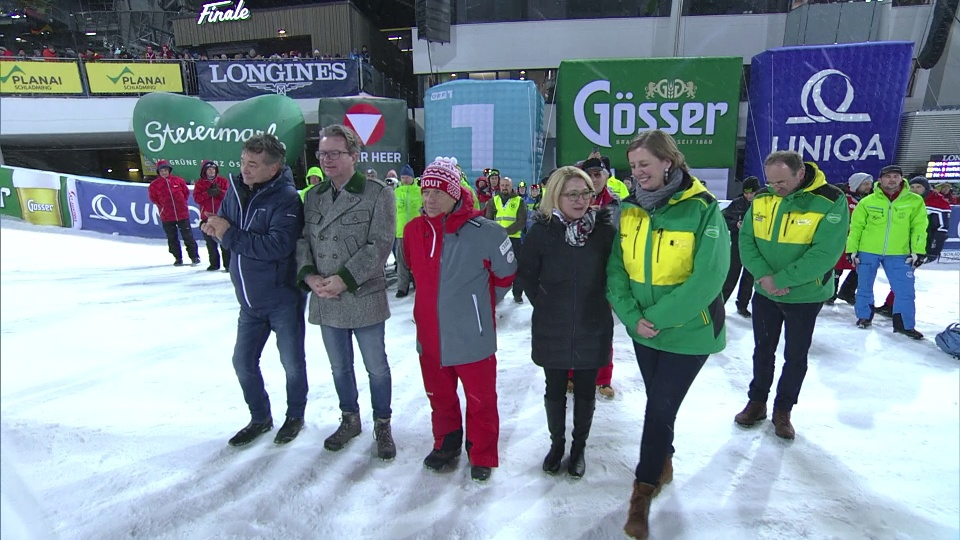goesser: (571, 67, 746, 146), (21, 192, 57, 220)
longines: (206, 58, 363, 98)
steiermark: (131, 105, 301, 163)
uniqa: (771, 66, 887, 172), (83, 184, 214, 243)
unserheer: (324, 104, 398, 169)
